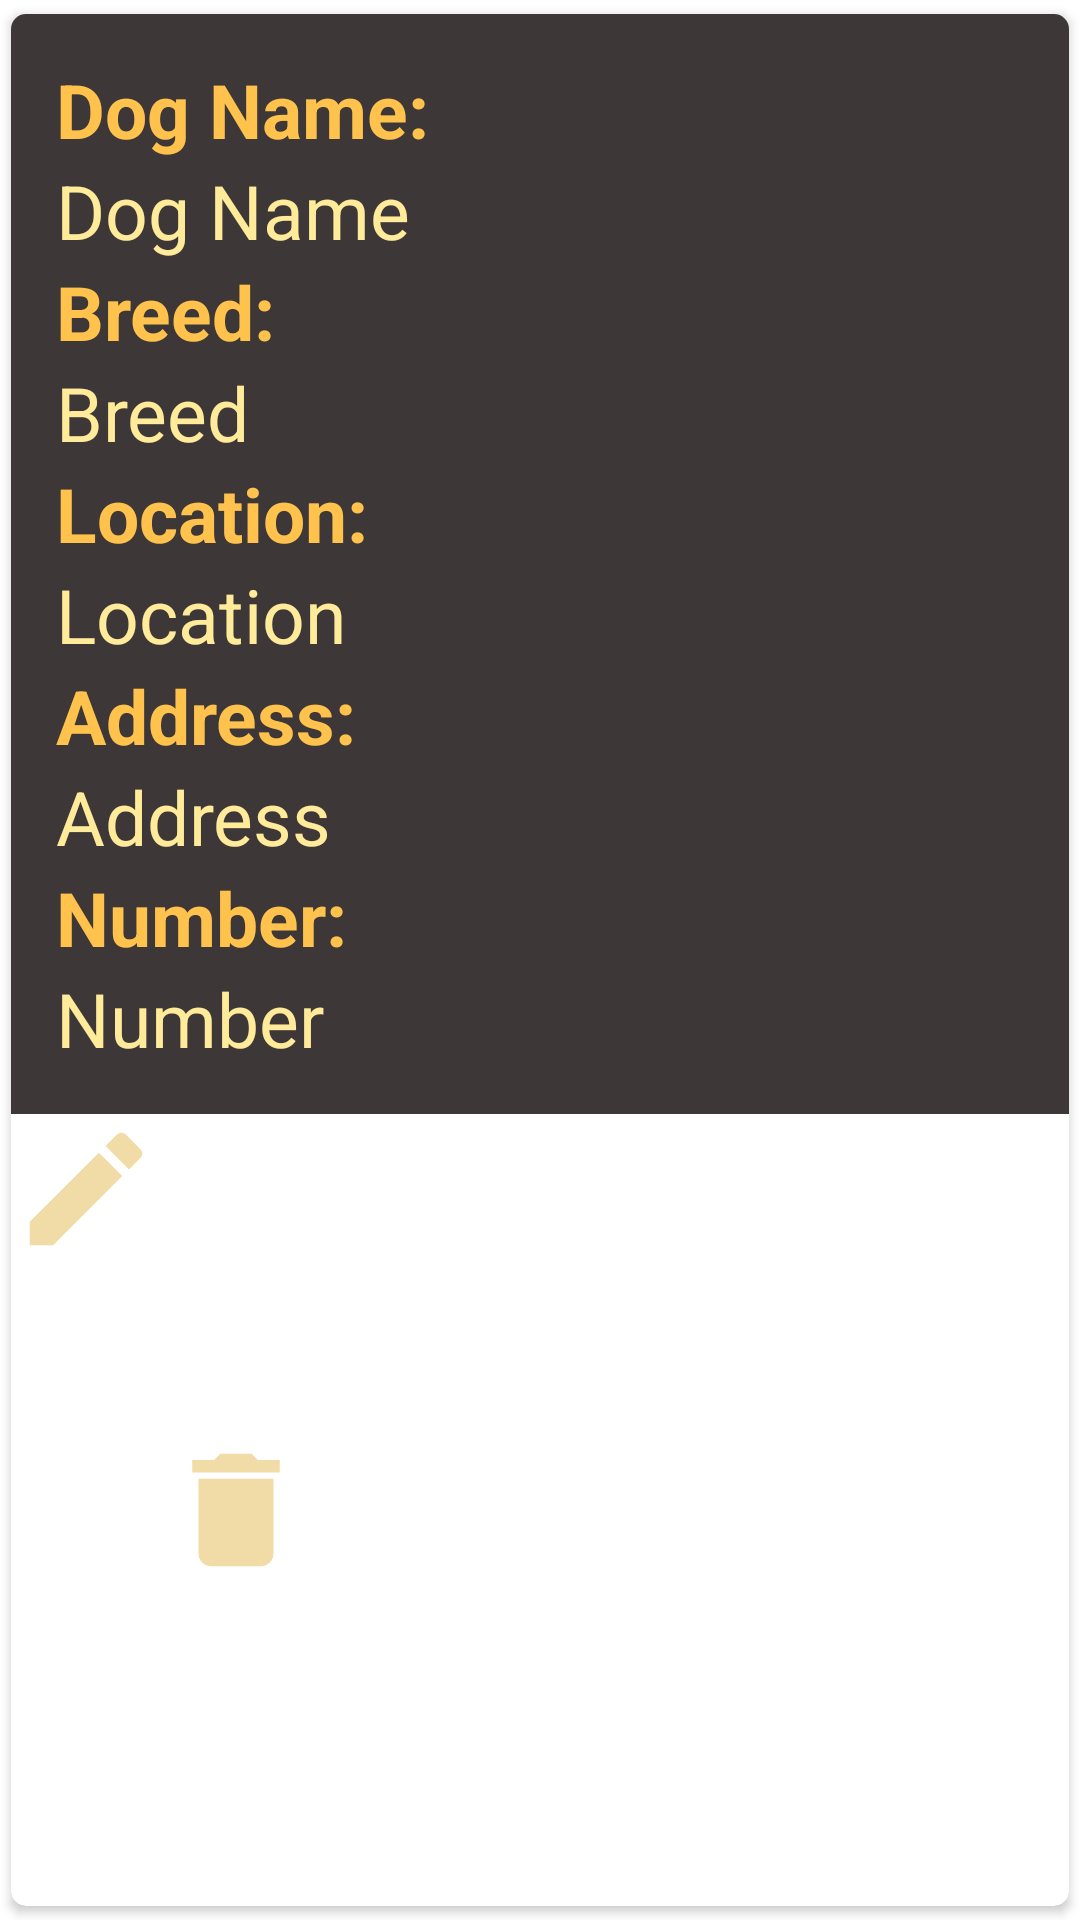

Screen size 1080×1920. Icon name, then its box in pixels as (x1, y1, x2, y2):
delete: (192, 1454, 280, 1566)
edit: (30, 1133, 142, 1245)
